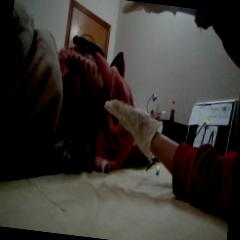gloved: (98, 98, 162, 148), (120, 0, 178, 21)
